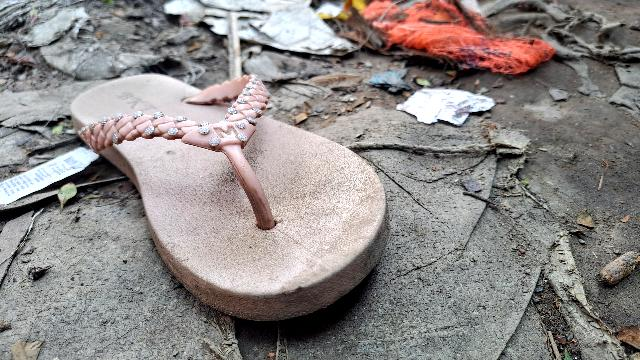sandal: (62, 0, 422, 336)
